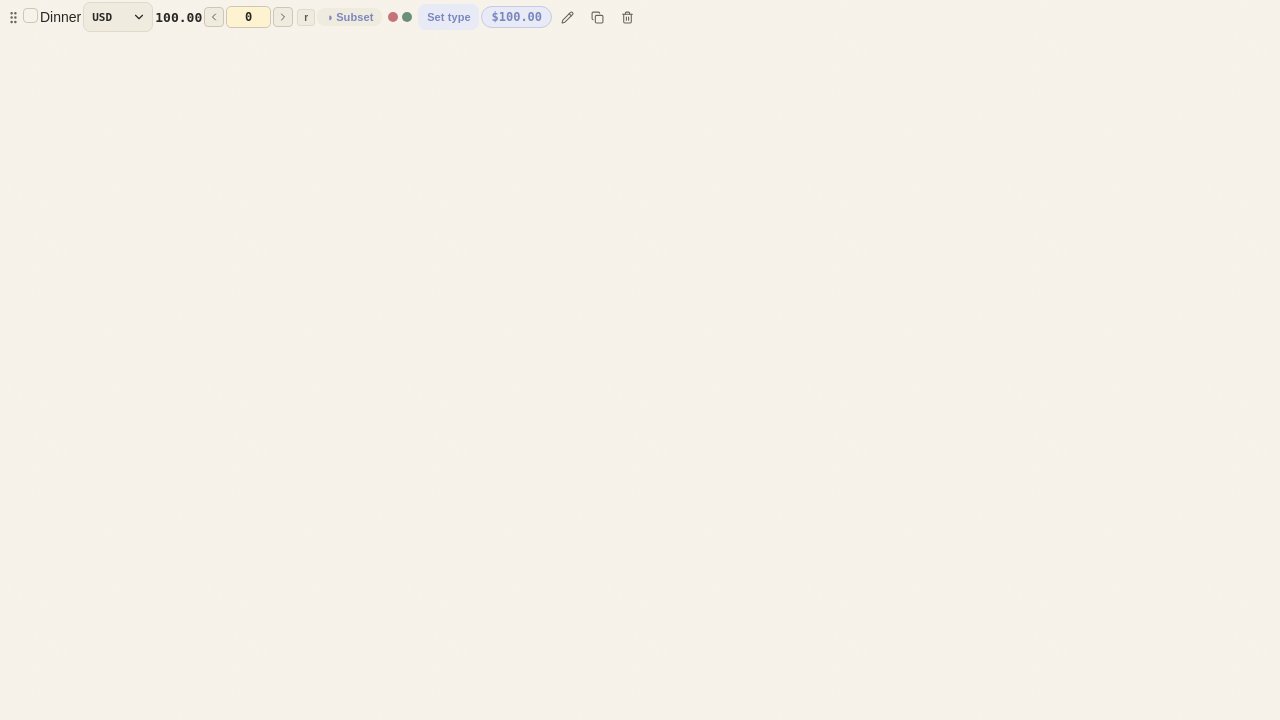
Test case: CostRow - Who Field Clickability › Subset split type › should open split modal when who-dots clicked for subset type
The width and height of the screenshot is (1280, 720).
Expected: the element with class "who-dots" is shown, [388,12,412,22]
Click the button with class "who-dots" at (400, 17), box [384,3,416,31]
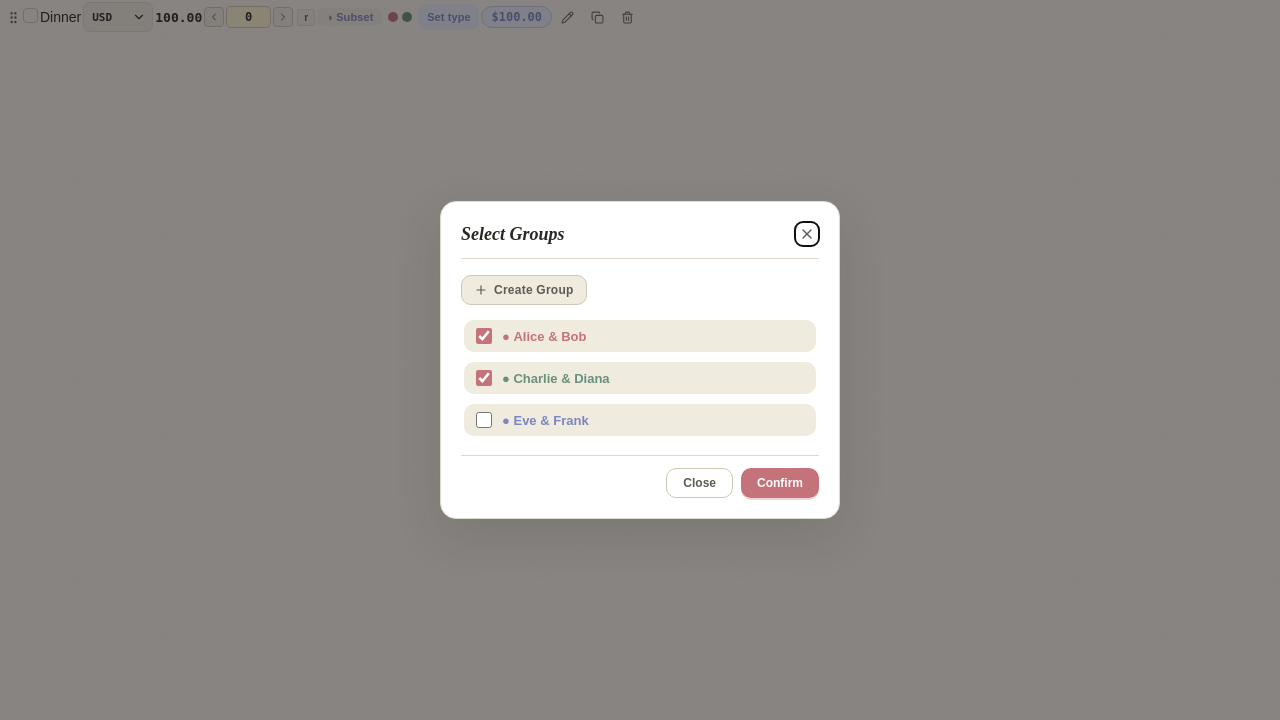
Expected: the text "Select Groups" is shown, [461,224,564,244]
